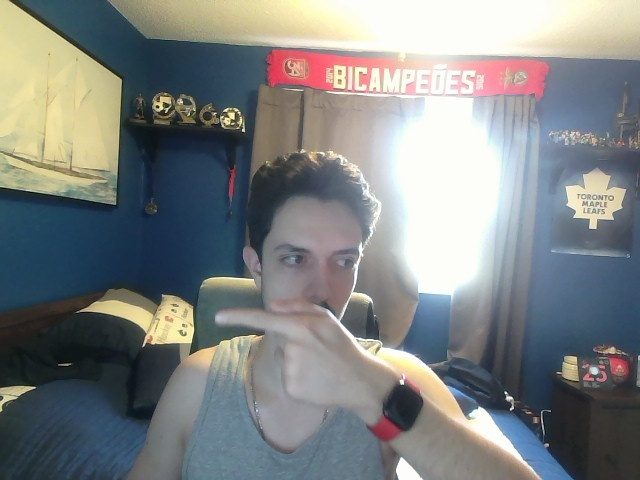Right: (212, 299, 378, 409)
